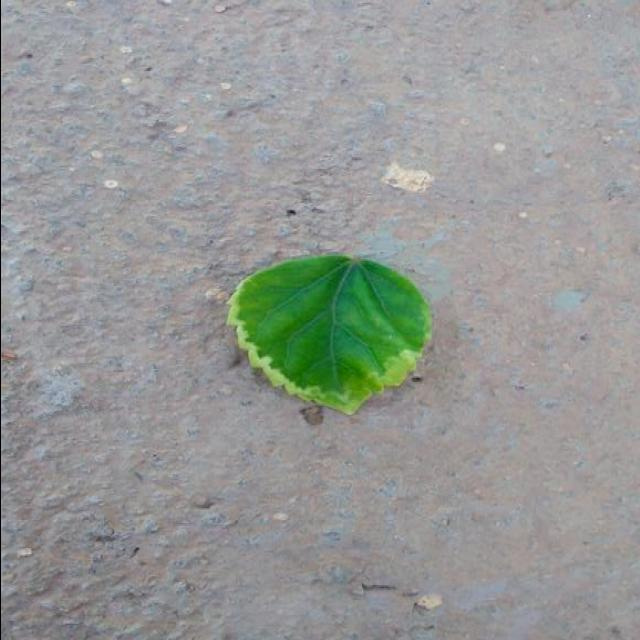leaf: (225, 251, 432, 416)
